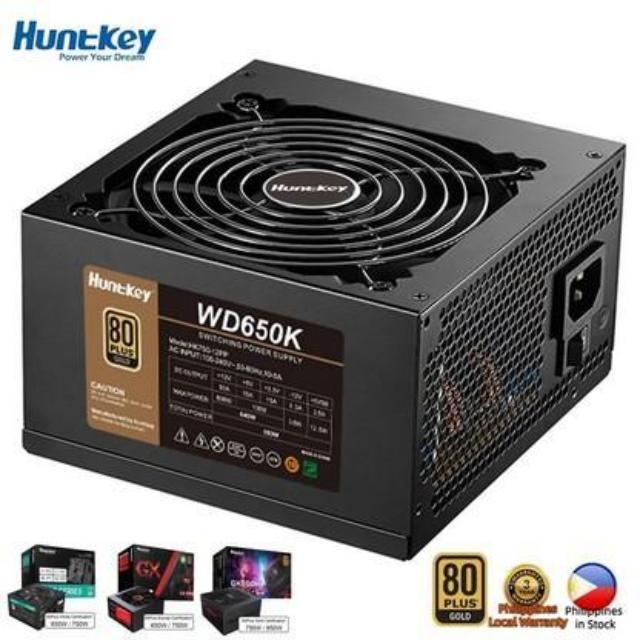PSU: (12, 54, 640, 574)
